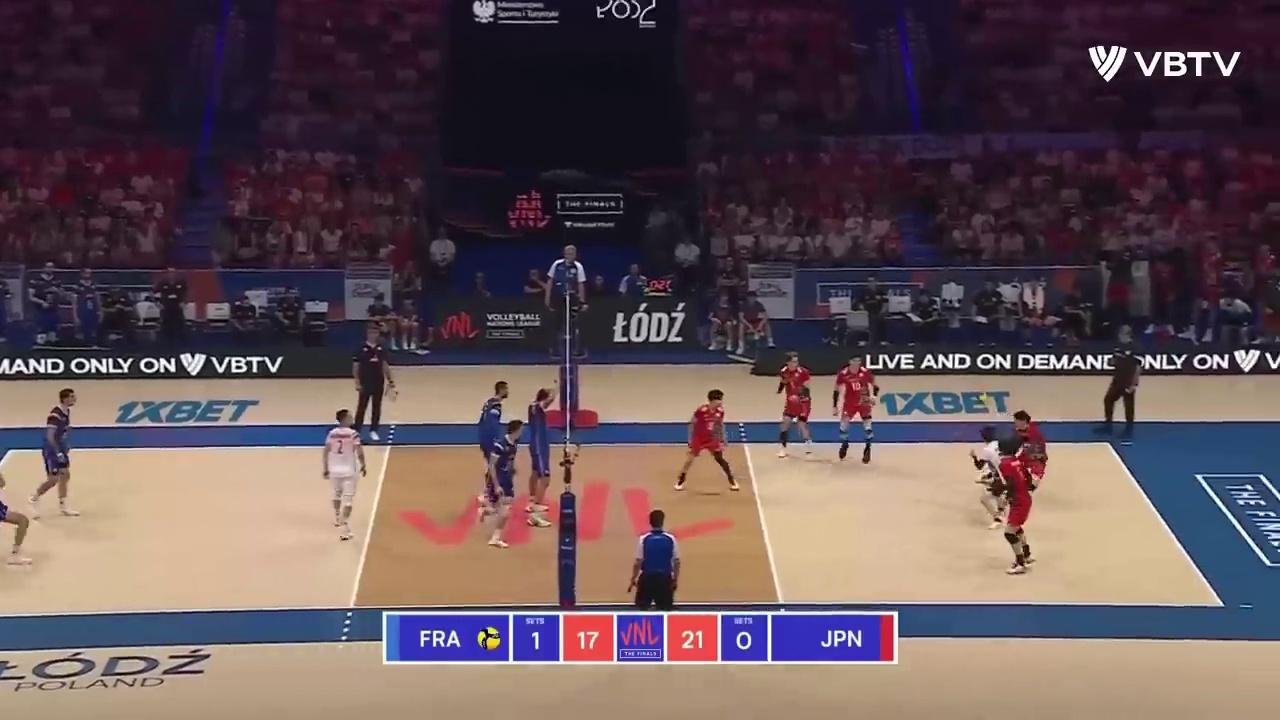ball: (977, 393, 986, 403)
